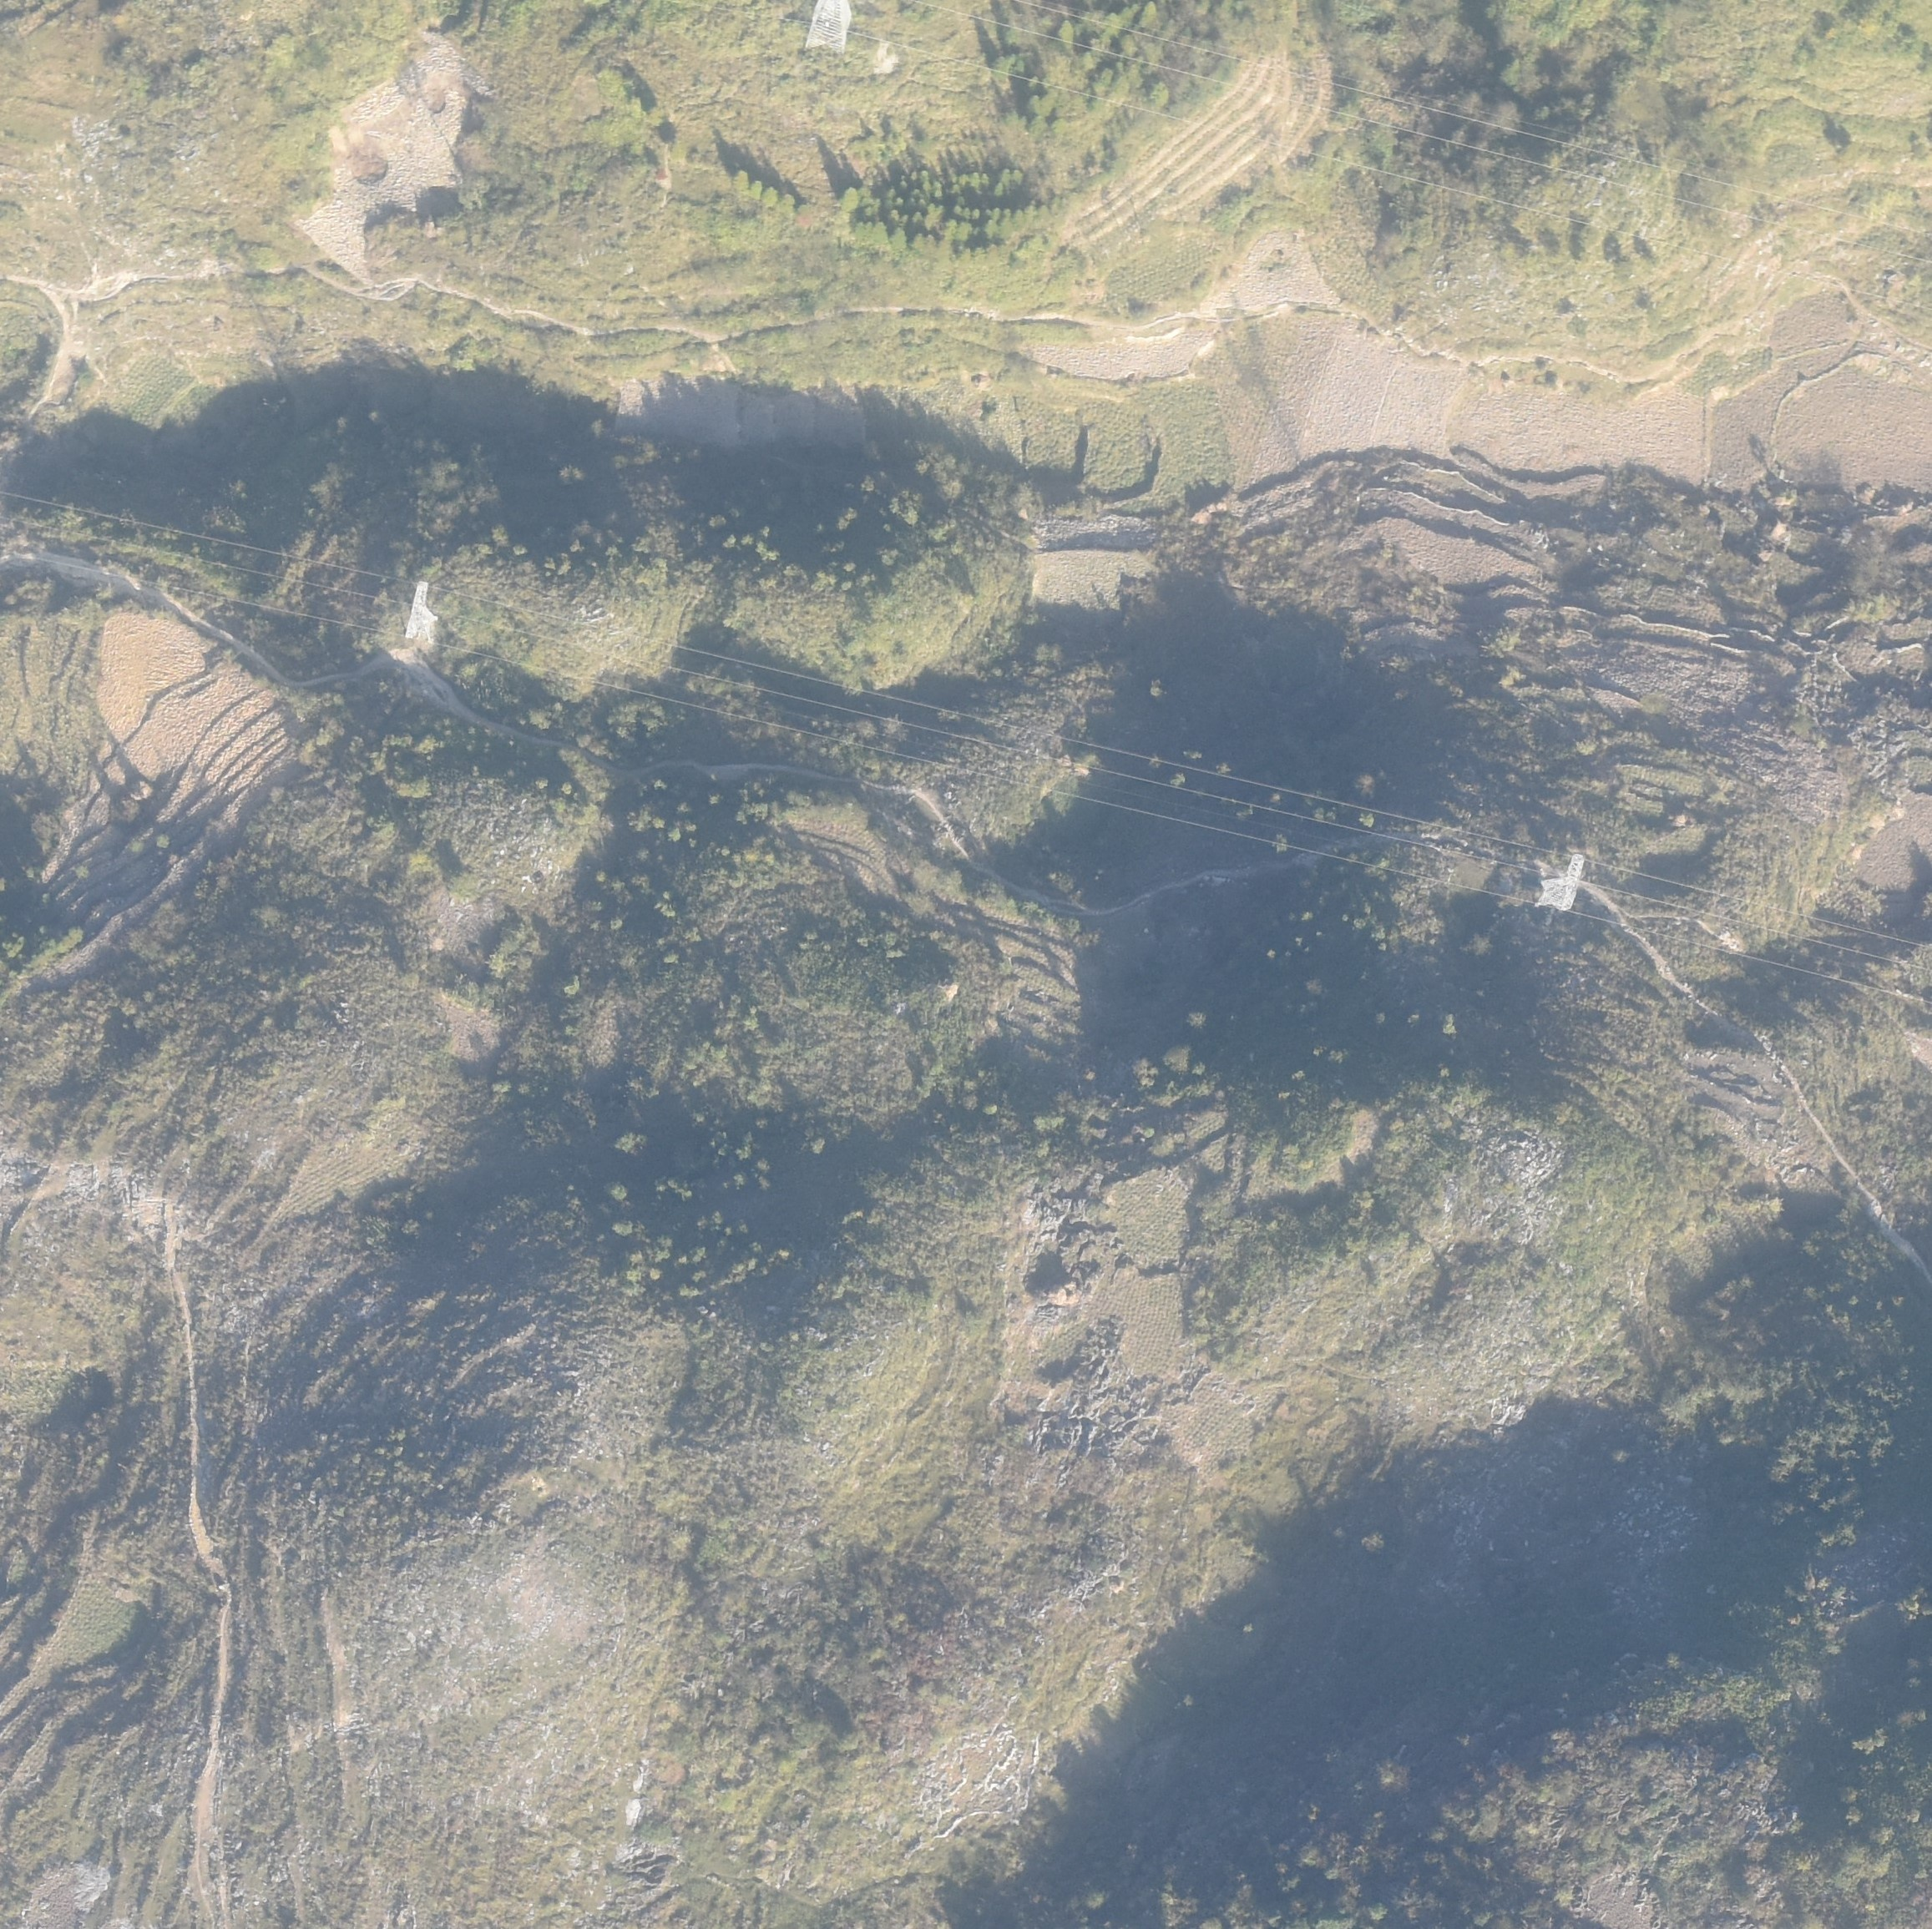cable-tower: (382, 567, 454, 703), (1541, 851, 1605, 936), (801, 2, 856, 64)
